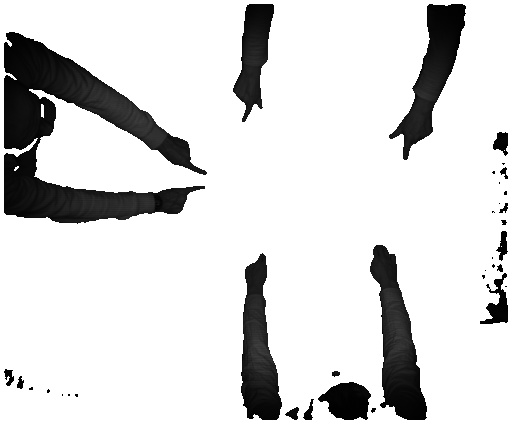hand: (384, 111, 438, 159), (232, 74, 263, 127), (165, 136, 207, 175), (159, 186, 207, 215), (368, 240, 399, 283), (240, 248, 271, 288)
